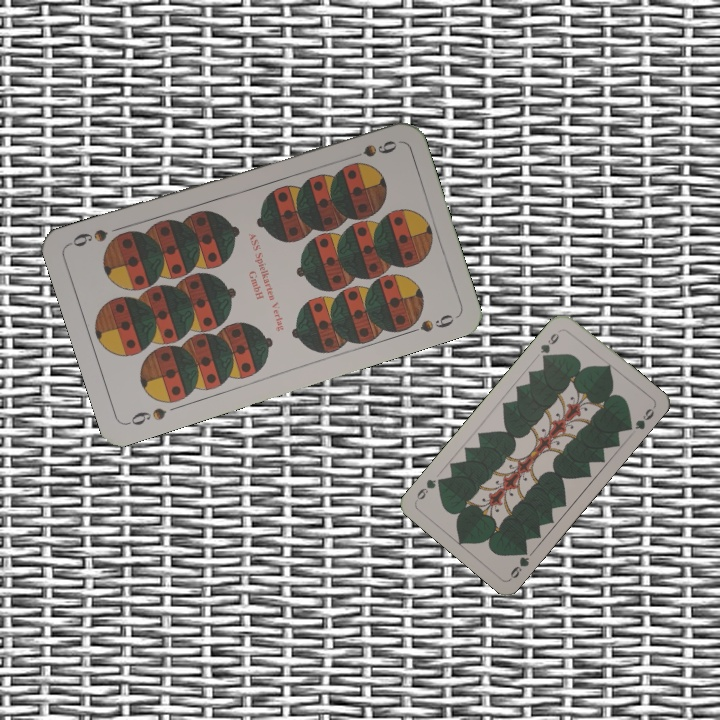G9: (536, 326, 564, 363), (506, 543, 532, 582)
S9: (342, 136, 400, 163), (123, 403, 169, 428)
